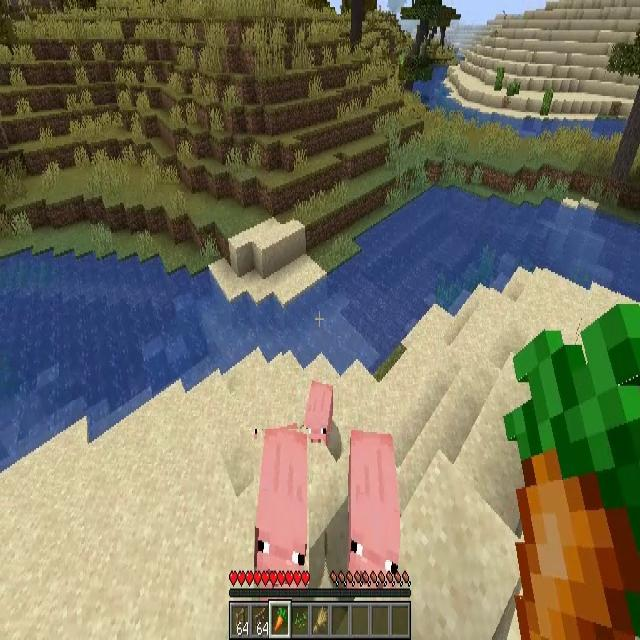pig: (254, 429, 309, 584), (350, 427, 404, 584), (306, 378, 332, 452)
